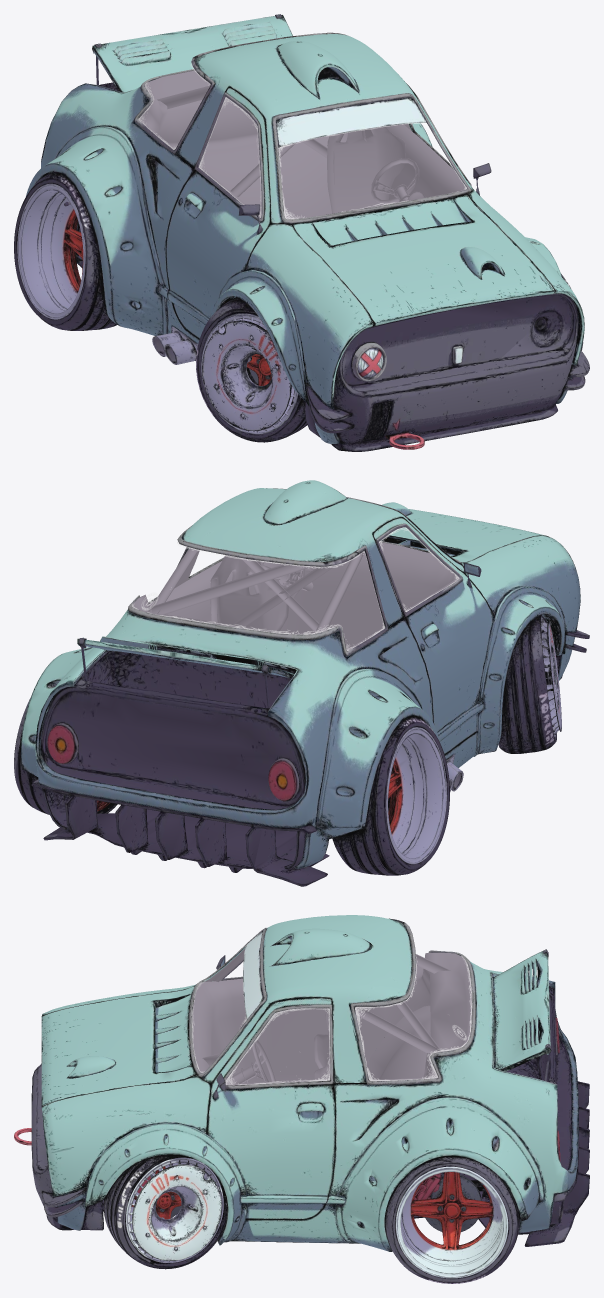
File: che.glb
3 views of the same model, one above another, from view 1: azimuth 30°, elevation 25°; view 2: azimuth 150°, elevation 25°; view 3: azimuth 270°, elevation 25° (orthographic). The views are drawn at different scales.
Visible parts, largest first — view 1: Che_carroceria, Che_chasis, Che_interior, Wheel_RL_ruedas, Wheel_FL_ruedas, Che_cristales; view 2: Che_carroceria, Che_chasis, Che_interior, Wheel_RL_ruedas, Wheel_FL_ruedas, Che_cristales, Wheel_RR_ruedas; view 3: Che_carroceria, Che_interior, Wheel_RR_ruedas, Wheel_FR_ruedas, Che_chasis, Che_cristales.
Boxes of the visible parts, box(x1,y1,x2,y2) form: Che_carroceria: box(26, 14, 589, 449); Che_chasis: box(75, 82, 578, 451); Che_interior: box(139, 70, 466, 219); Wheel_RL_ruedas: box(14, 171, 116, 330); Wheel_FL_ruedas: box(196, 297, 307, 442); Che_cristales: box(139, 63, 466, 219); Che_carroceria: box(21, 480, 589, 868); Che_chasis: box(31, 562, 562, 886); Che_interior: box(132, 542, 459, 650); Wheel_RL_ruedas: box(332, 715, 449, 875); Wheel_FL_ruedas: box(498, 614, 561, 753); Che_cristales: box(132, 527, 459, 650); Wheel_RR_ruedas: box(14, 698, 117, 814); Che_carroceria: box(14, 915, 578, 1251); Che_interior: box(192, 948, 471, 1085); Wheel_RR_ruedas: box(384, 1155, 519, 1283); Wheel_FR_ruedas: box(103, 1154, 227, 1269); Che_chasis: box(31, 976, 589, 1246); Che_cristales: box(192, 930, 472, 1085).
Size of the model in its own units: 1.37 by 1.06 by 2.
Materials: 5 (4 with a texture image).
